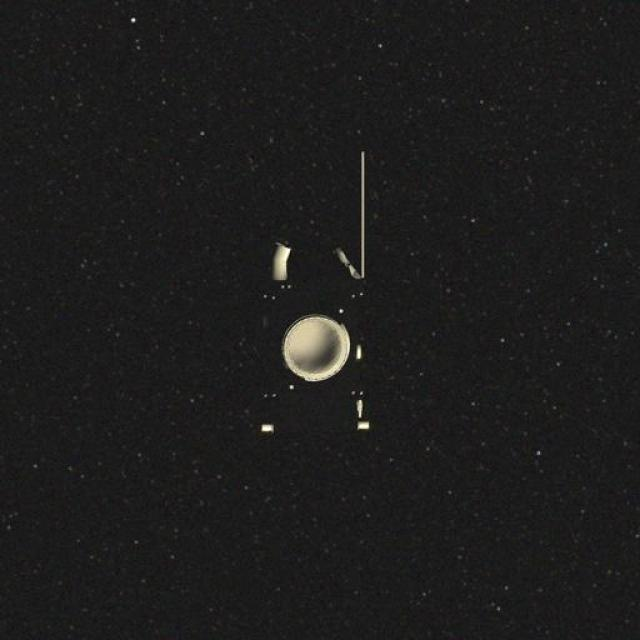proba_3_csc: (226, 123, 391, 472)
